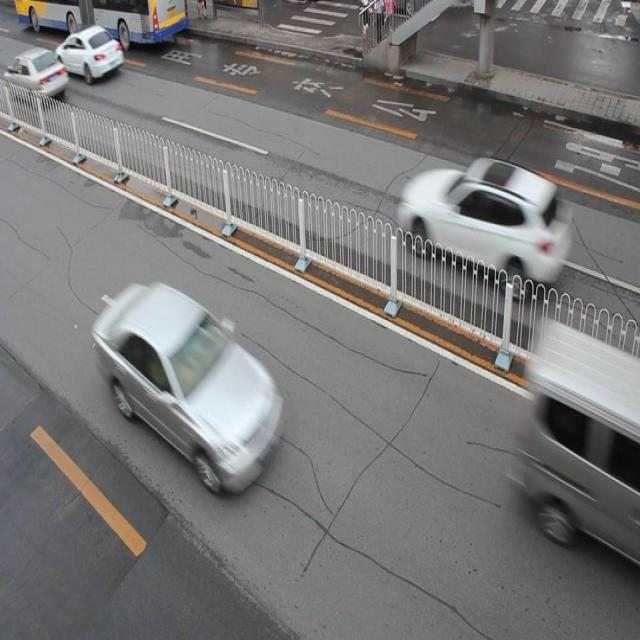car: (94, 284, 281, 490), (399, 156, 566, 298), (56, 25, 125, 83), (8, 46, 69, 108)
truck: (520, 320, 640, 573)
van: (17, 1, 188, 45)
